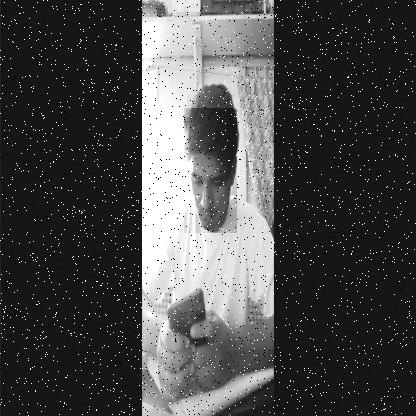Normal: (184, 108, 237, 233)
